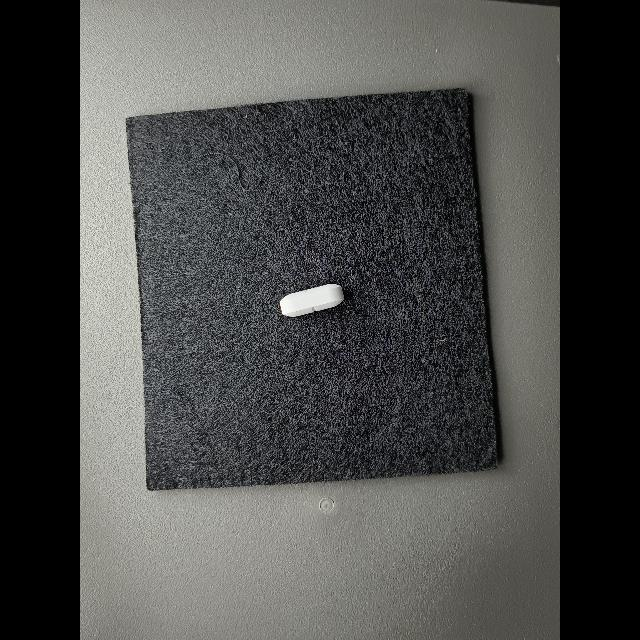Intact Pill: (279, 284, 344, 317)
